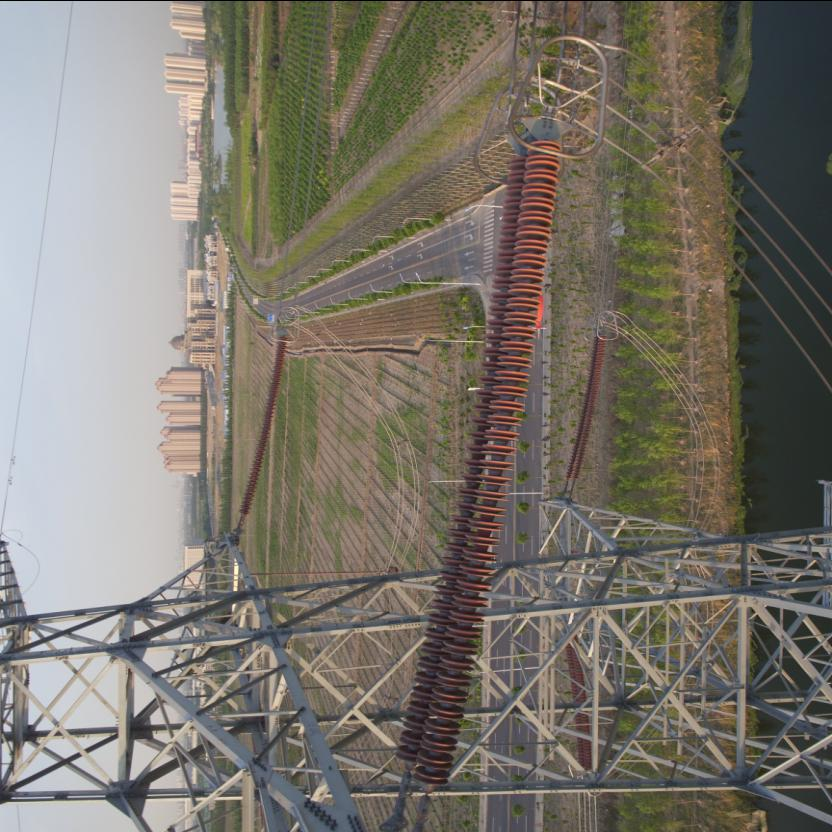insulator: (387, 128, 567, 814), (233, 332, 288, 522)
